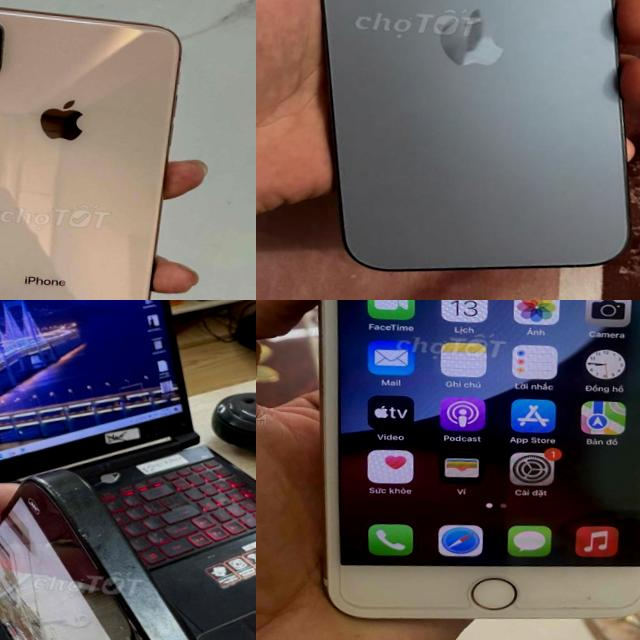gen_12_13: (278, 0, 640, 289)
gen_16: (0, 457, 256, 640)
gen_7_8: (275, 300, 640, 640)
gen_x_xs: (0, 0, 196, 300)
scratch: (21, 468, 86, 506), (67, 516, 101, 550), (567, 587, 602, 608)
